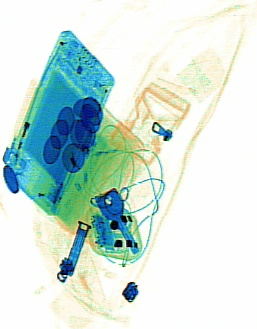lighter: (0, 76, 43, 166)
